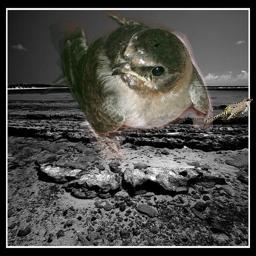Cuckoo: (204, 98, 253, 124)
Swallow: (39, 10, 213, 166)
